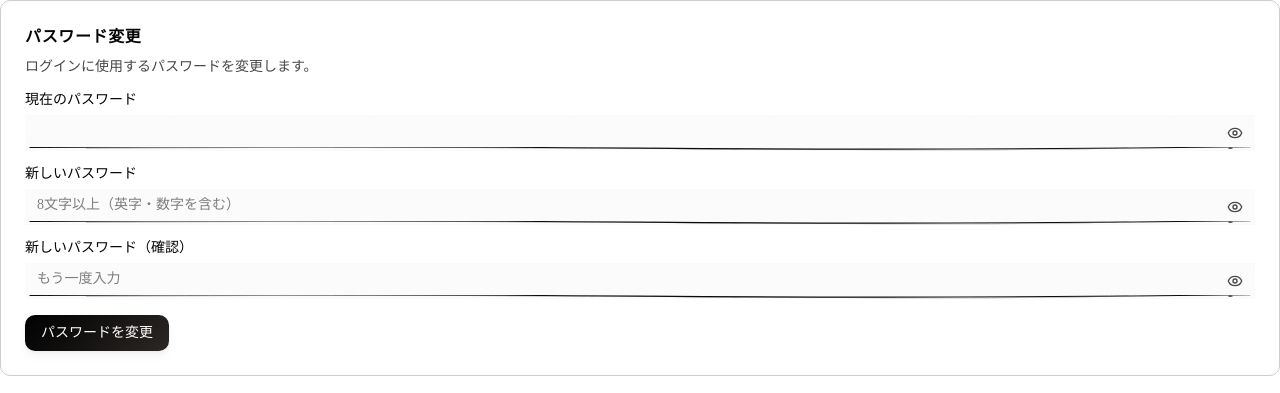
Test case: PasswordChangeForm › 送信処理 › 送信中は「変更中...」ボタン表示になり二重送信を防止する
Type "currentPass1" into the password field labelled "現在のパスワード" at (640, 133), box [25,115,1255,151]
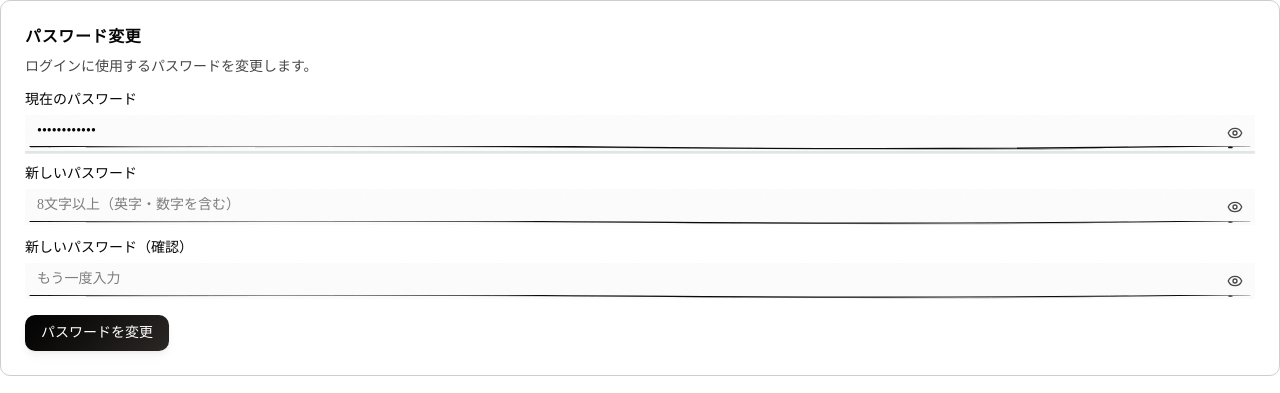
Type "newPassword1" into the password field labelled "新しいパスワード" at (640, 207), box [25,189,1255,225]
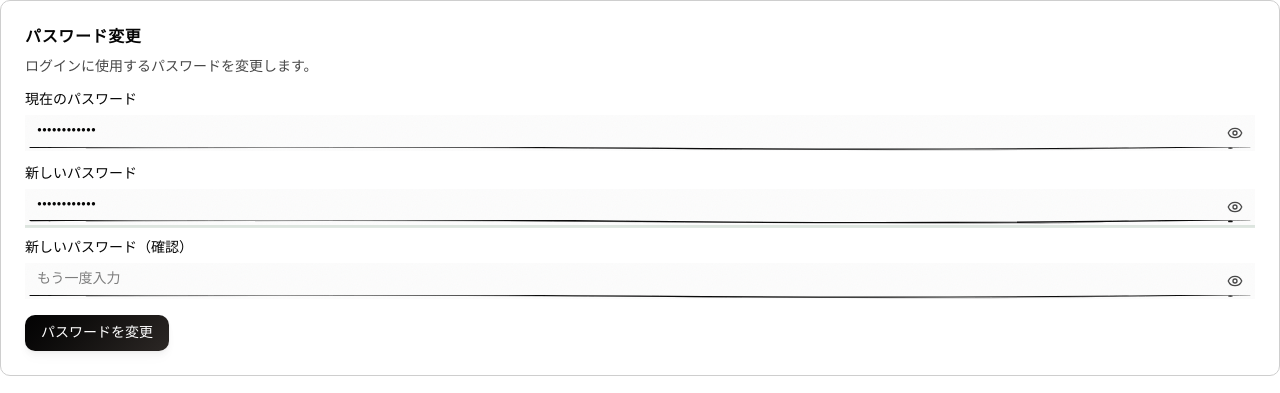
Type "newPassword1" into the password field labelled "新しいパスワード（確認）" at (640, 281), box [25,263,1255,299]
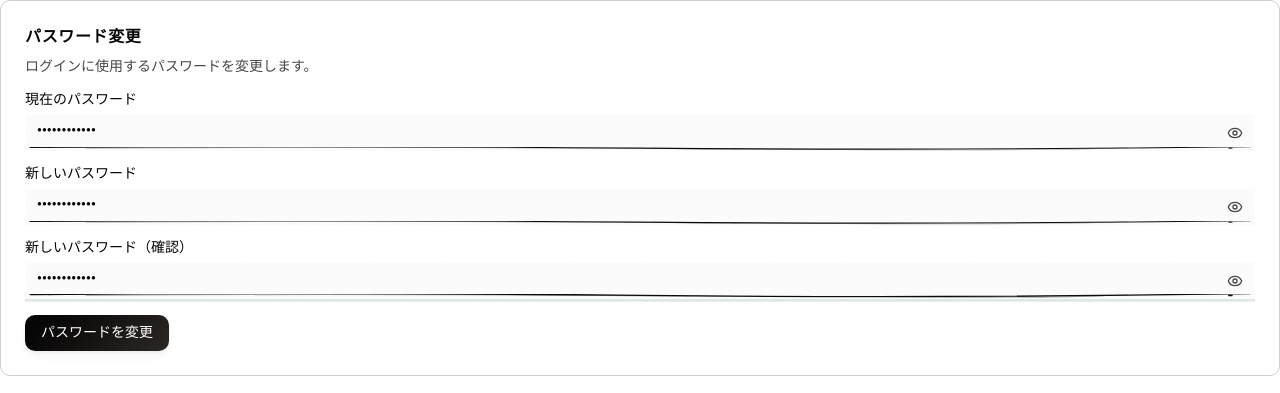
Click the button "パスワードを変更" at (97, 333), box [25,315,169,351]
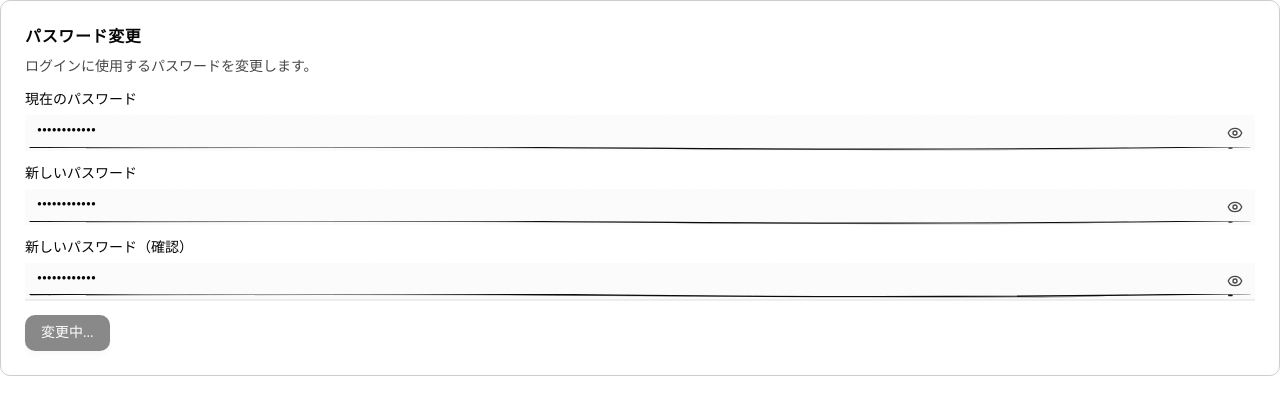
Result: the button "変更中..." is disabled at [25,315,110,351]
